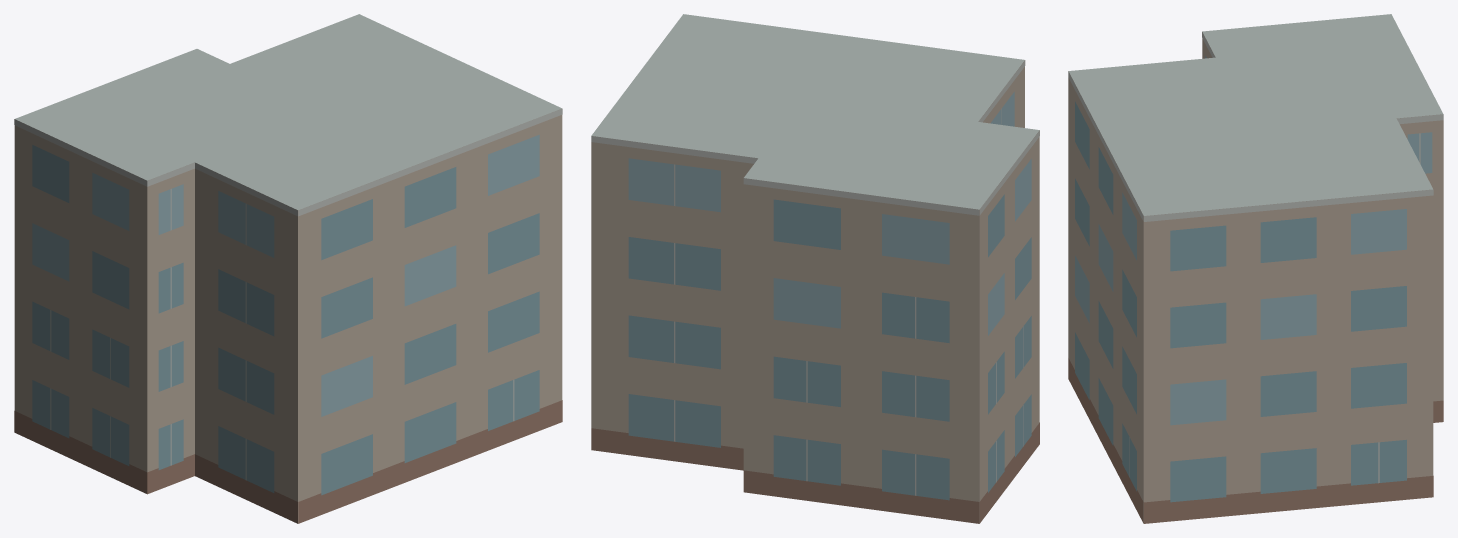
Rendered from survey-upis-32823339.glb.
3 renders of one model, left to right at view 1: azimuth 30°, elevation 25°; view 2: azimuth 150°, elevation 25°; view 3: azimuth 270°, elevation 25°, orthographic. The views are drawn at different scales.
Visible parts, largest first — view 1: survey-upis-32823339.tmp; view 2: survey-upis-32823339.tmp; view 3: survey-upis-32823339.tmp.
Part boxes in pixels (left/top/right/bottom): survey-upis-32823339.tmp: left=14, top=14, right=562, bottom=523; survey-upis-32823339.tmp: left=591, top=14, right=1039, bottom=523; survey-upis-32823339.tmp: left=1068, top=14, right=1443, bottom=523.
Bounding box in the file's own units: 17.46 × 12.4 × 13.7.
